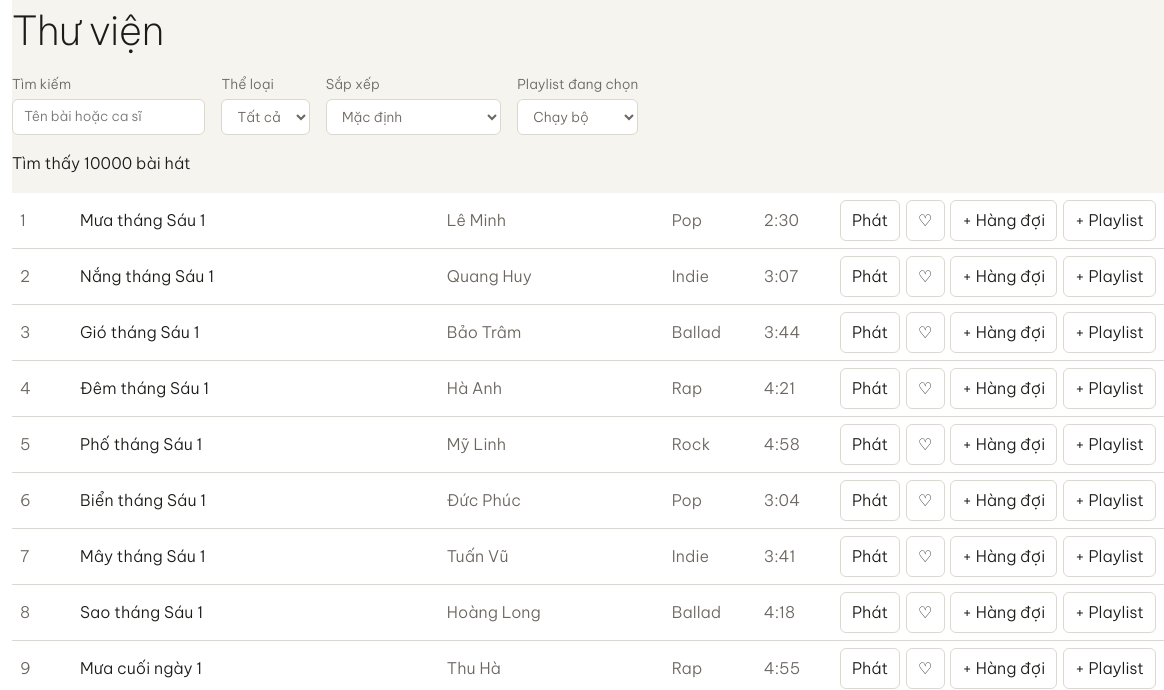
it: LibraryPage › thêm bài vào playlist đang chọn và báo đã có khi thêm trùng
Click the button with aria-label "vào playlist".
click(1109, 221)  # box [1063,200,1156,241]
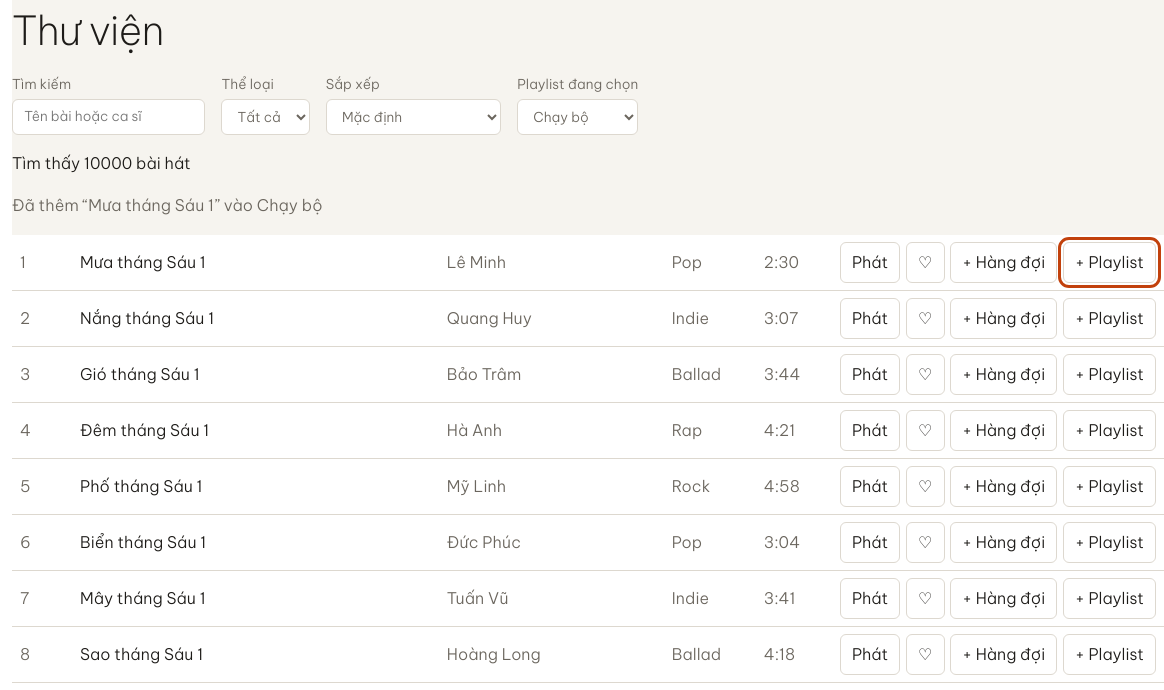
Expected: the message shows "Đã thêm", [12,195,322,215]
Click the button with aria-label "vào playlist".
click(1109, 262)  # box [1063,242,1156,282]
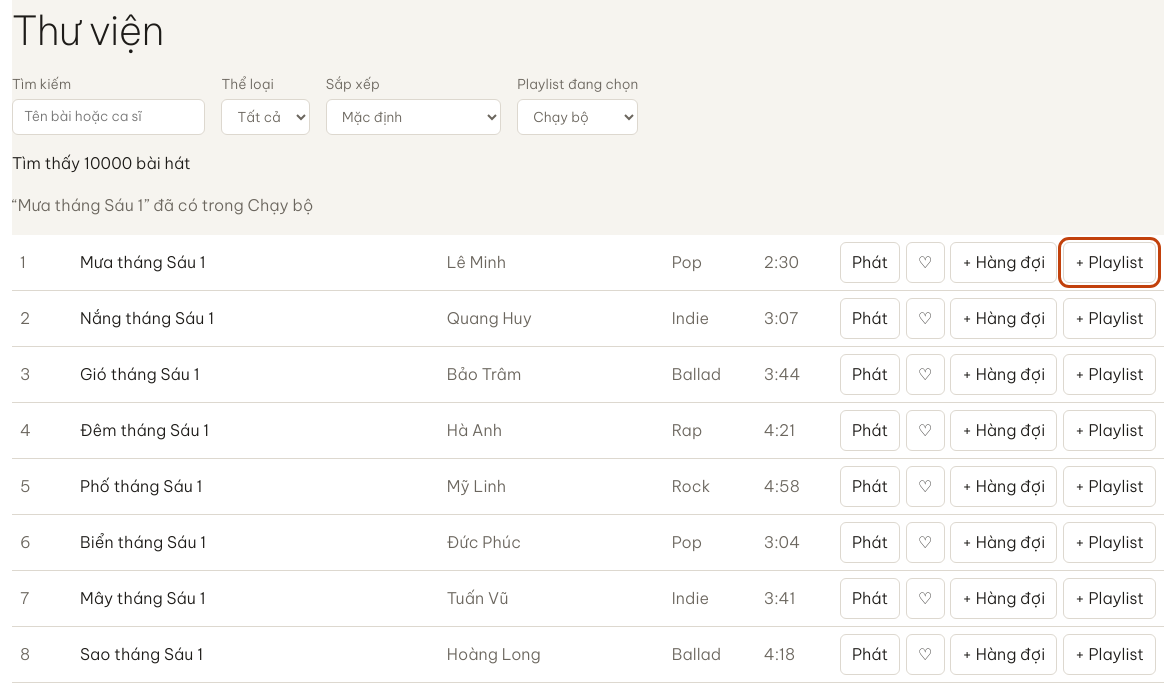
Expected: the message shows "đã có trong Chạy bộ", [12,195,313,215]
